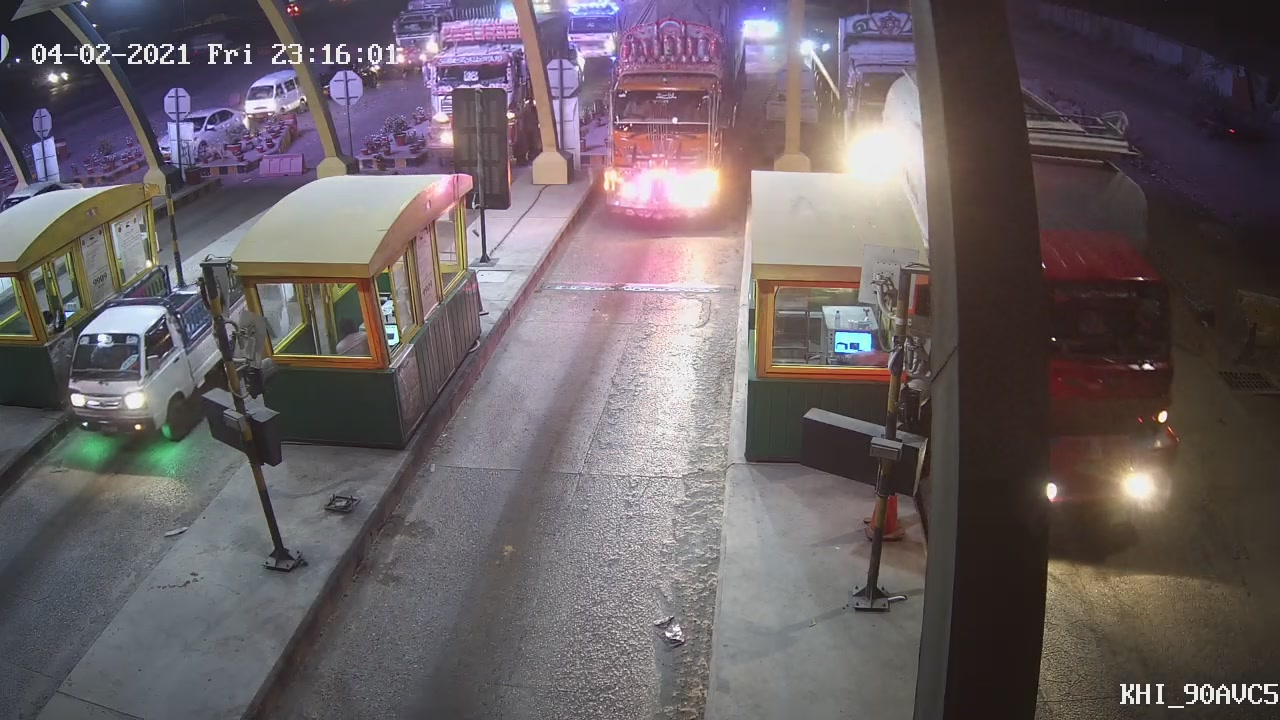F5: (592, 15, 740, 231)
